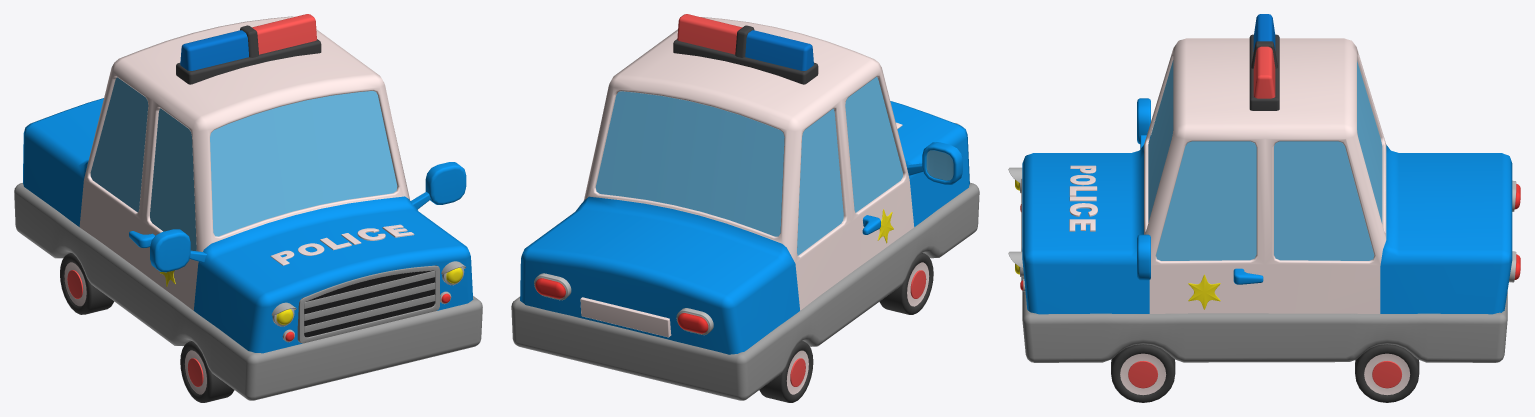
The model's file is Public_16_Police_Car_1.glb.
The picture shows the model from 3 angles, left to right: view 1: azimuth 30°, elevation 25°; view 2: azimuth 150°, elevation 25°; view 3: azimuth 270°, elevation 25°; orthographic projection.
Visible parts, largest first — view 1: Public_16_Police_Car_1; view 2: Public_16_Police_Car_1; view 3: Public_16_Police_Car_1.
Boxes of the visible parts, box(x1,y1,x2,y2) form: Public_16_Police_Car_1: box(14, 14, 482, 402); Public_16_Police_Car_1: box(511, 14, 979, 402); Public_16_Police_Car_1: box(1008, 14, 1520, 402).
Size of the model in its own units: 3.04 by 2.81 by 4.27.
Materials: 1 (1 with a texture image).
